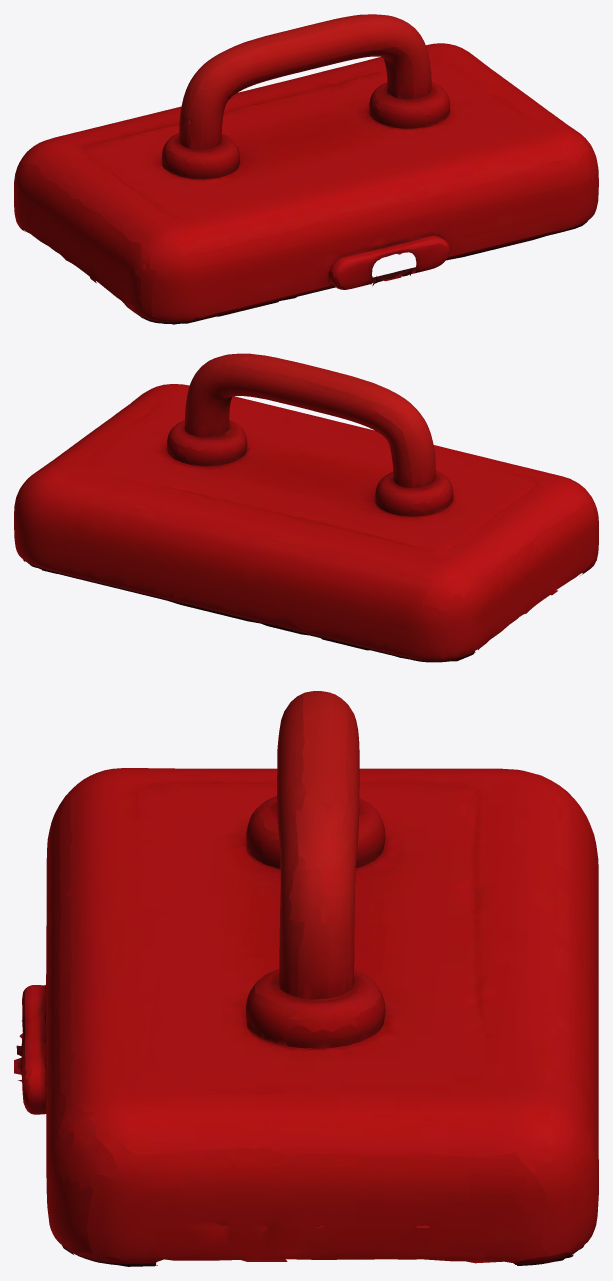
File: lid.glb
The picture shows the model from 3 angles, top to bottom: view 1: azimuth 30°, elevation 25°; view 2: azimuth 150°, elevation 25°; view 3: azimuth 270°, elevation 25°; orthographic projection. The views are drawn at different scales.
Visible parts, largest first — view 1: geometry_0; view 2: geometry_0; view 3: geometry_0.
Boxes of the visible parts, x1=… form: geometry_0: x1=14, y1=14, x2=598, y2=324; geometry_0: x1=14, y1=353, x2=598, y2=662; geometry_0: x1=14, y1=691, x2=598, y2=1266.
Bounding box in the file's own units: 0.2533 × 0.1006 × 0.1616.
Materials: 1 (1 with a texture image).
